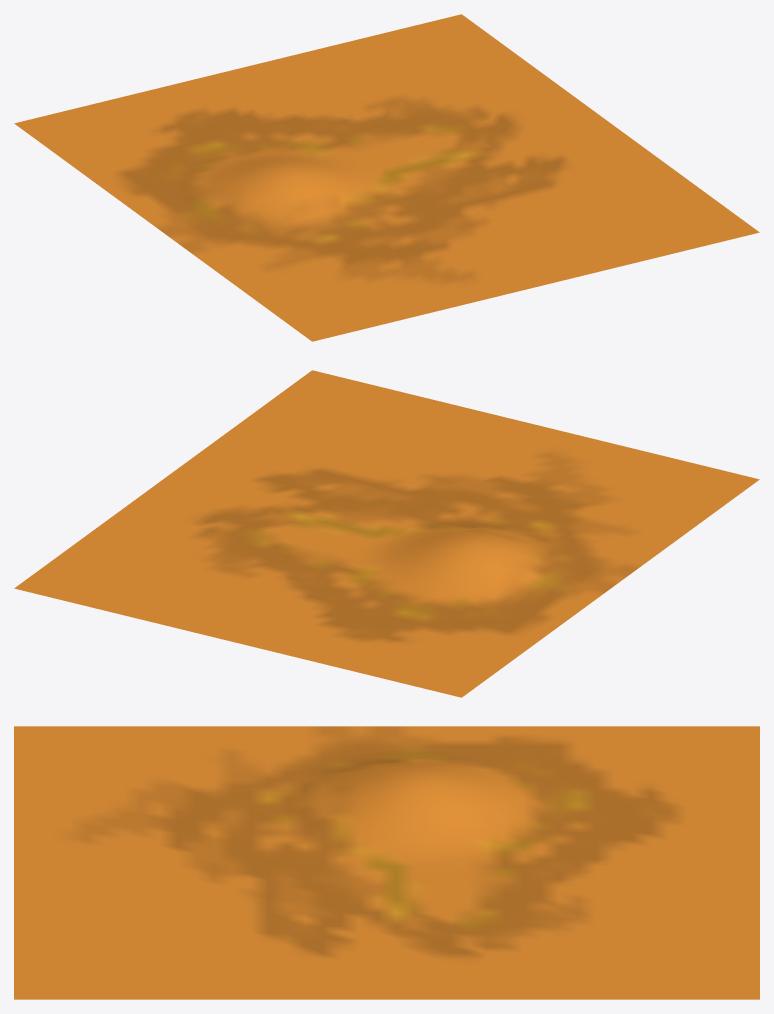
3 views of the same model, one above another, from view 1: azimuth 30°, elevation 25°; view 2: azimuth 150°, elevation 25°; view 3: azimuth 270°, elevation 25° (orthographic). The views are drawn at different scales.
Visible parts, largest first — view 1: Plane.001; view 2: Plane.001; view 3: Plane.001.
Boxes of the visible parts, <box> form: Plane.001: <box>14,14,759,341</box>; Plane.001: <box>14,370,759,697</box>; Plane.001: <box>14,726,759,999</box>.
Bounding box in the file's own units: 4684 × 198 × 5405.
